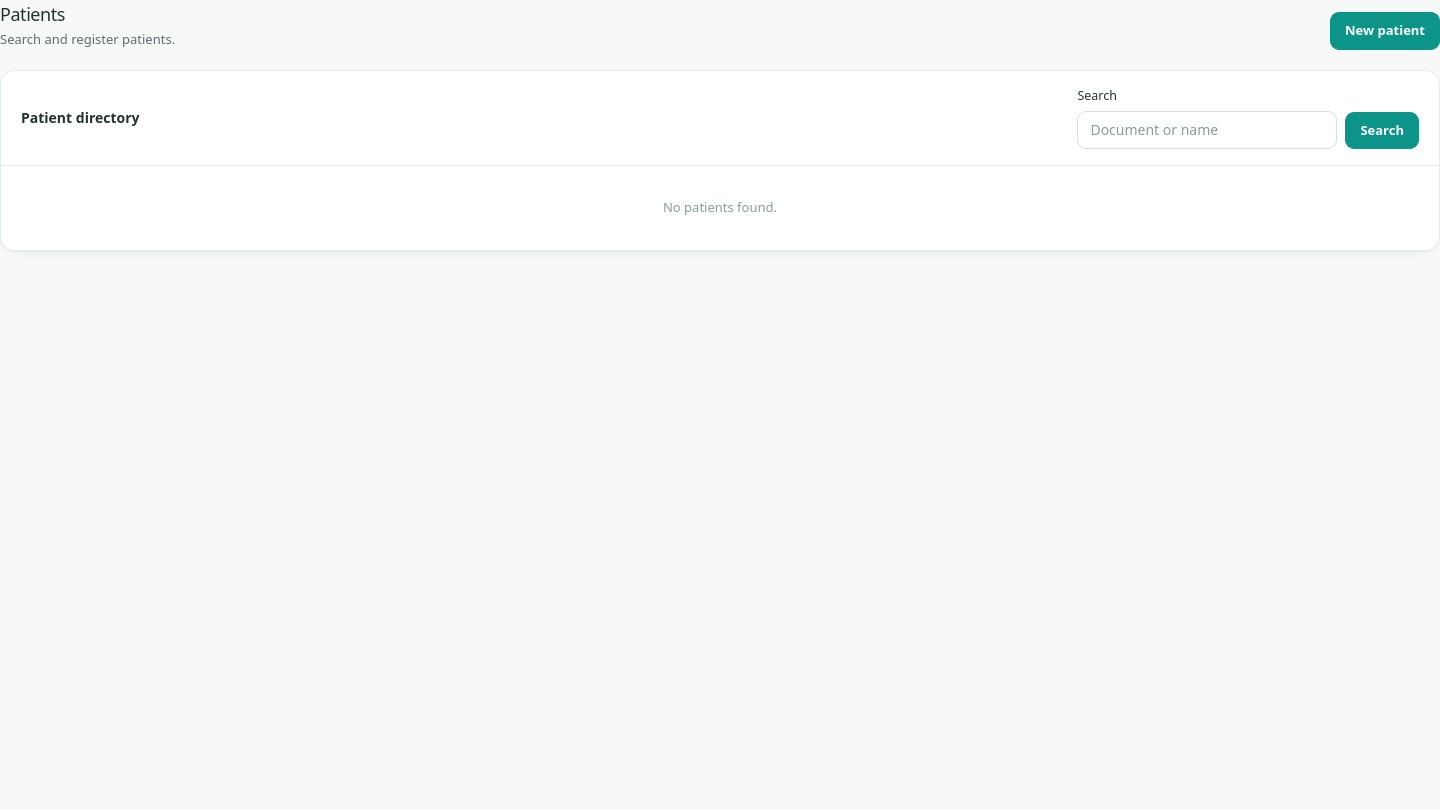
Scenario: PatientsPage › blocks submit when required fields are missing and does not call the API
Click the button "New patient" at (1385, 31), box [1330,12,1439,50]
(page scrolled)
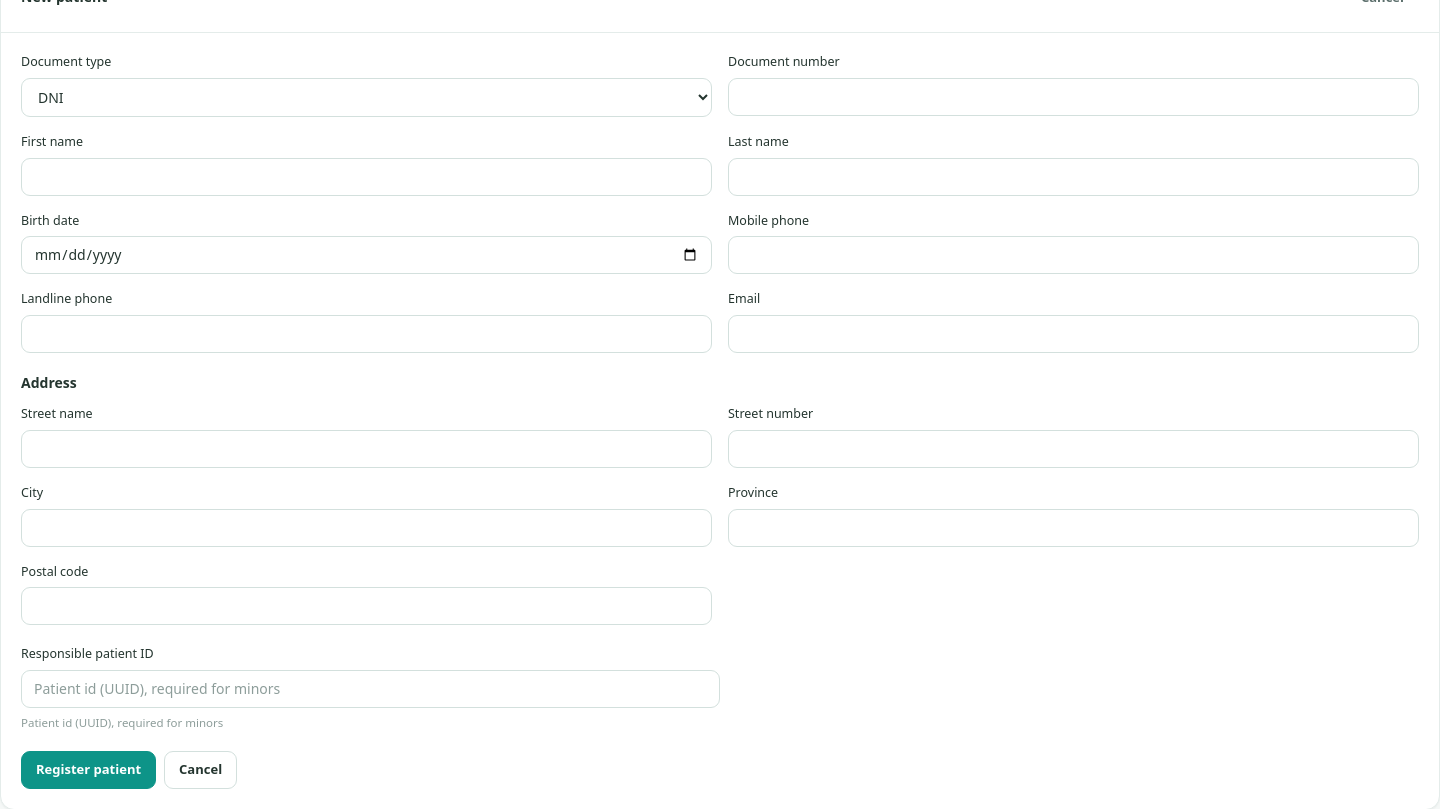
Click the button "Register patient" at (89, 770), box [21,751,156,789]
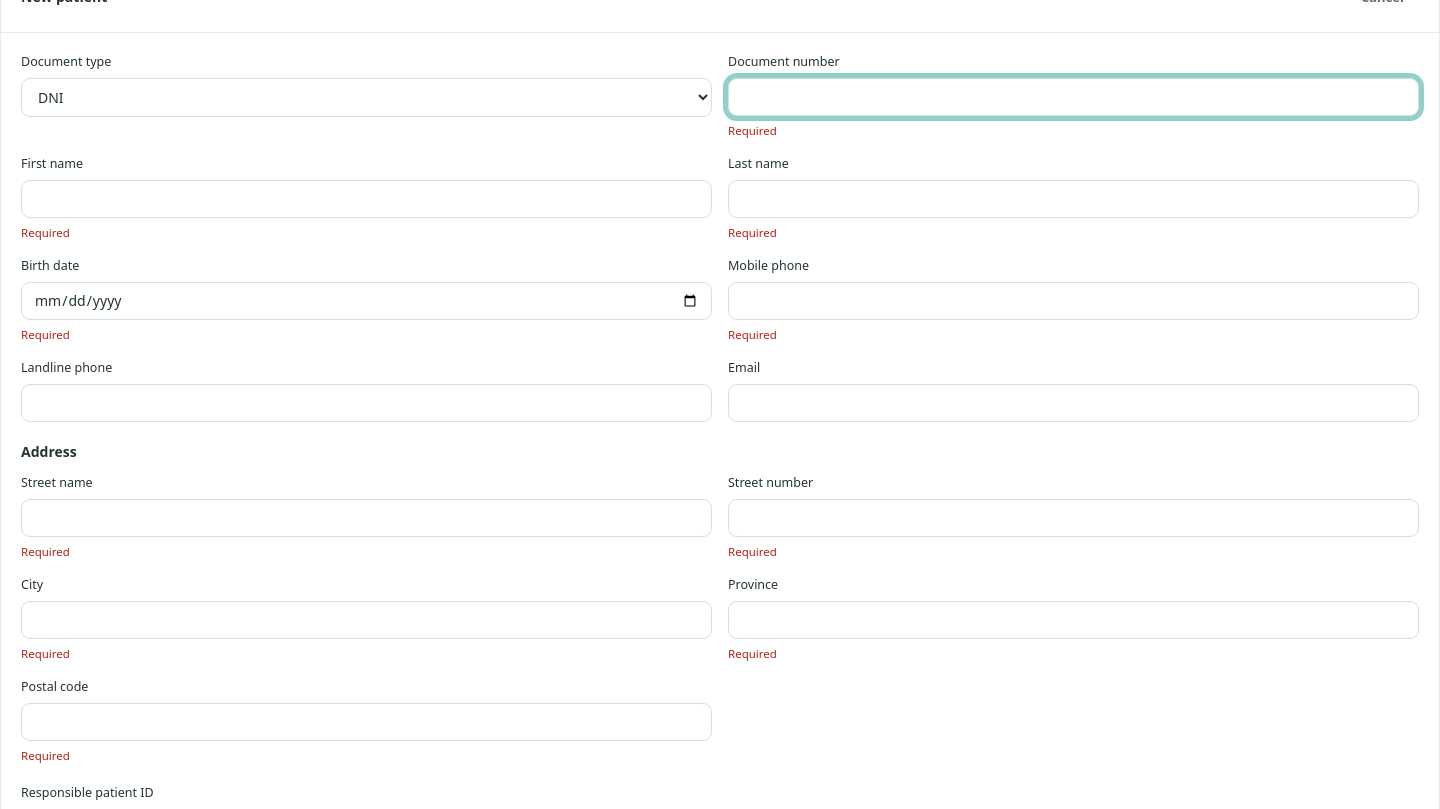
Result: the text "Required" below "Document number" is shown at [728,123,777,138]
